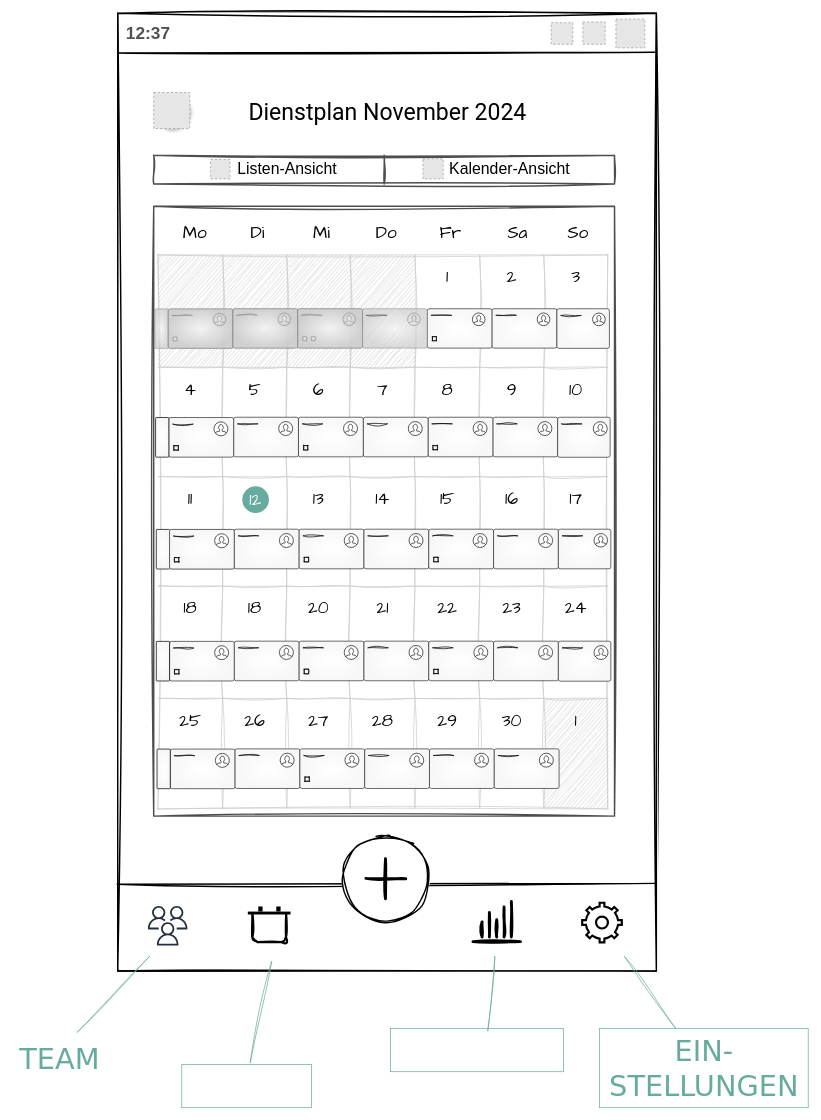
Image size: 821x1120. Some labels were removed from this diagram. Grey dashed boxes stand in for pictures. Each missing label, with the centre of its shape:
"ARCHIV" goes at (x=246, y=1086).
"STATISTIK" goes at (x=476, y=1050).
